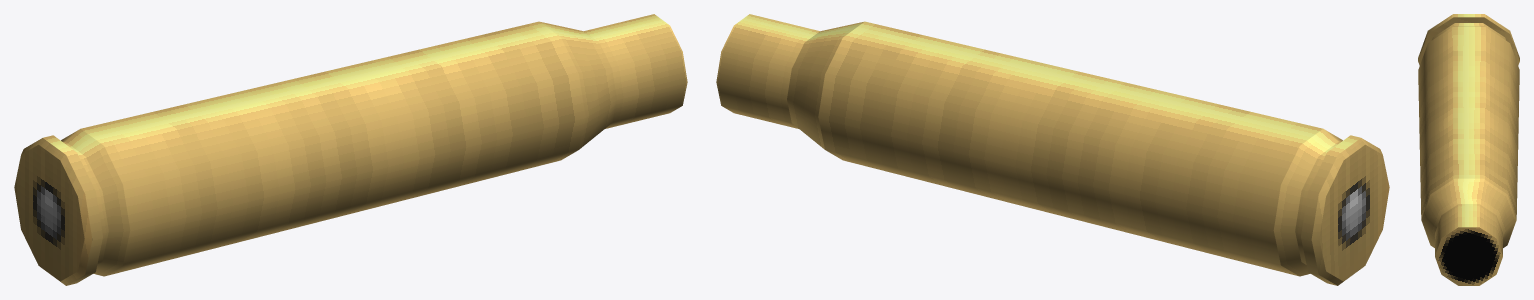
The model's file is ammomaker_CasingBottleneckS.fbx.
3 renders of one model, left to right at view 1: azimuth 30°, elevation 25°; view 2: azimuth 150°, elevation 25°; view 3: azimuth 270°, elevation 25°, orthographic. The views are drawn at different scales.
Parts seen in each view (by area): view 1: ammomaker_CasingBottleneckS; view 2: ammomaker_CasingBottleneckS; view 3: ammomaker_CasingBottleneckS.
Part boxes in pixels (bbox=[...]): ammomaker_CasingBottleneckS: bbox=[14, 14, 687, 285]; ammomaker_CasingBottleneckS: bbox=[716, 14, 1389, 285]; ammomaker_CasingBottleneckS: bbox=[1418, 14, 1519, 285].
Bounding box in the file's own units: 4.47 × 0.913 × 0.96.
